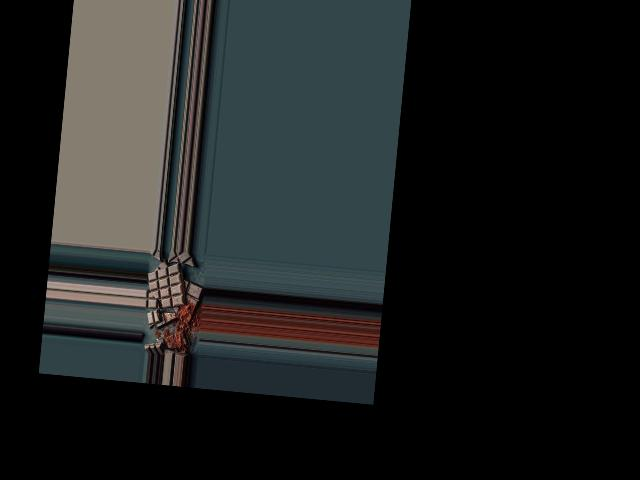chocolate: (145, 259, 188, 309)
